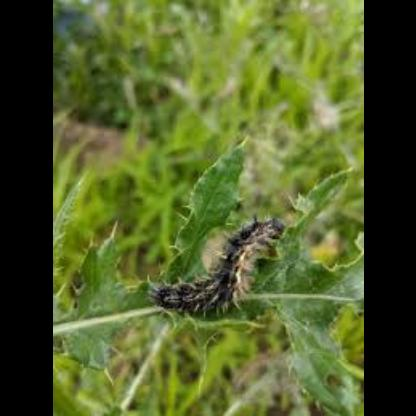oruga: (147, 209, 277, 310)
